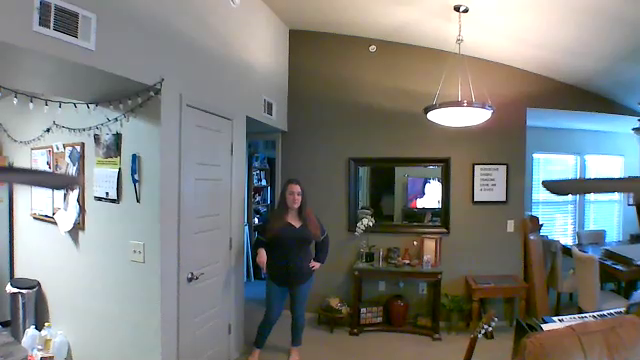down: (250, 244, 272, 277)
